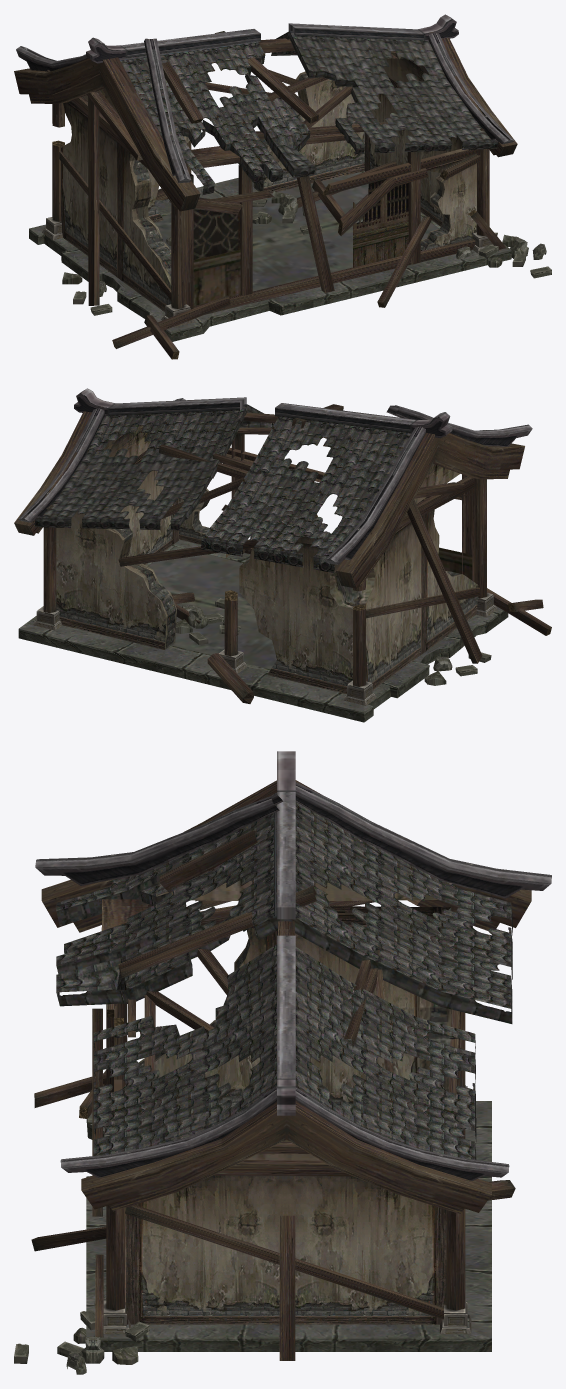
File: s7_citycrack_B.FBX
The picture shows the model from 3 angles, top to bottom: view 1: azimuth 30°, elevation 25°; view 2: azimuth 150°, elevation 25°; view 3: azimuth 270°, elevation 25°; orthographic projection. The views are drawn at different scales.
Parts seen in each view (by area): view 1: S7_polanfangzi; view 2: S7_polanfangzi; view 3: S7_polanfangzi.
Boxes of the visible parts, x1,y1,x2,y2 form: S7_polanfangzi: (14,14,551,359); S7_polanfangzi: (14,388,551,722); S7_polanfangzi: (14,751,551,1374).
Bounding box in the file's own units: 1455 × 849 × 1125.
